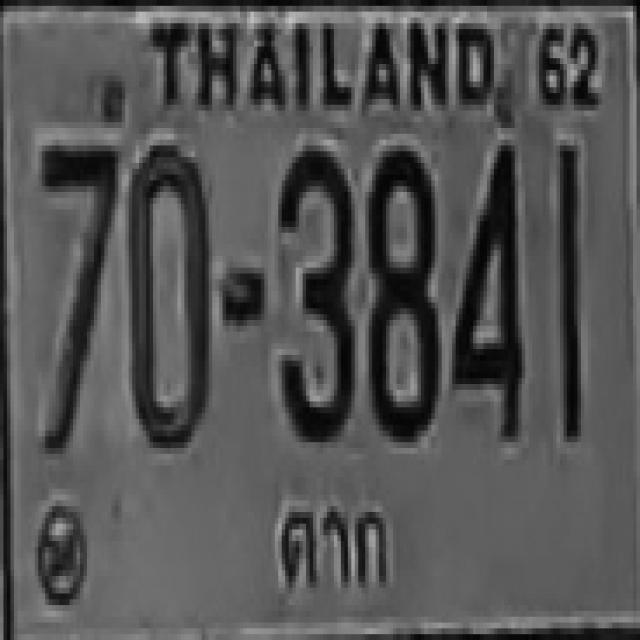0: (125, 140, 209, 442)
1: (555, 140, 579, 436)
3: (278, 142, 352, 434)
4: (450, 137, 520, 433)
7: (38, 140, 115, 448), (38, 140, 115, 360)
8: (365, 142, 435, 434)
Tak: (270, 493, 398, 604)
